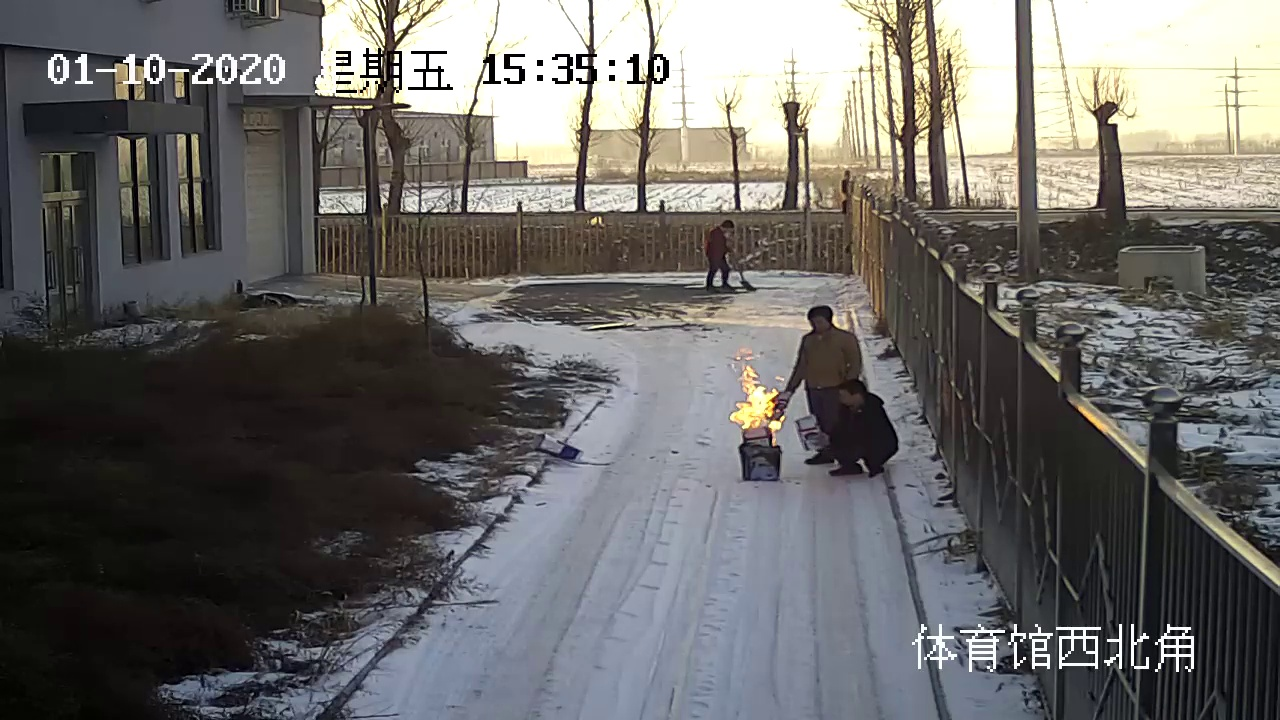fire: (728, 358, 784, 428)
